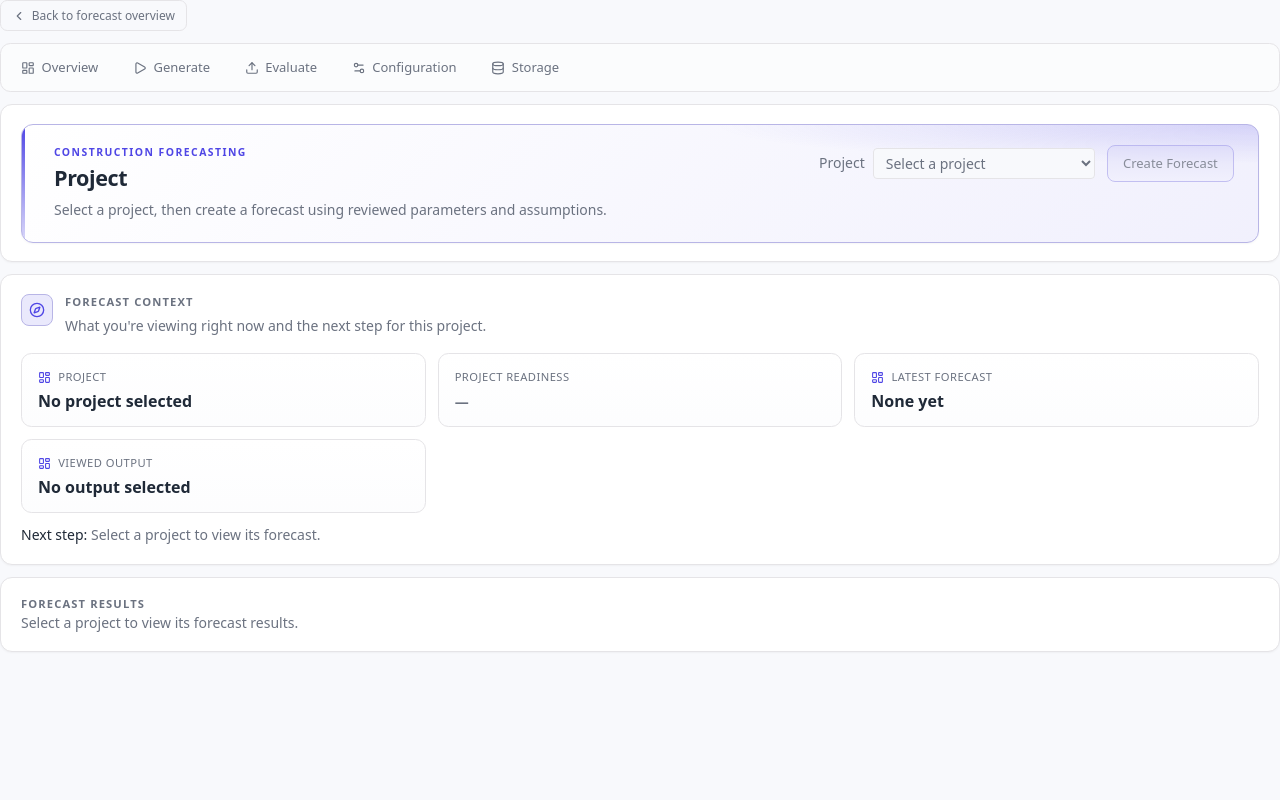
Scenario: ForecastRunCenterPage layout + Create Forecast modal › keeps date/month fields out of the page until the modal is opened, and opening runs no forecast
Step 1. Select "Tropical Resort" in the dropdown named "Forecast project" → (984, 163), box [873,148,1095,179]
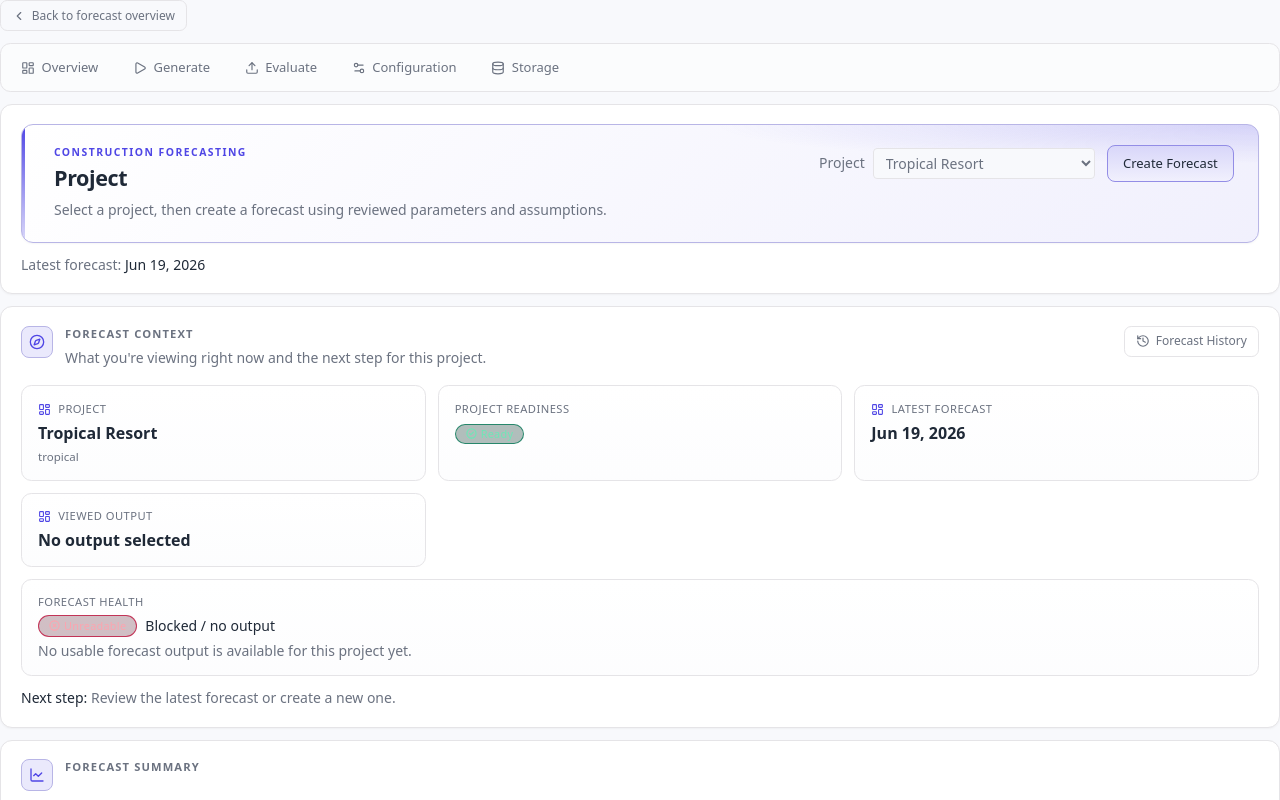
Expected: the field labelled "Forecast start date" is not shown
Expected: the field labelled "Actuals start month" is not shown
Step 2. Click the button "Create Forecast" → (1170, 163), box [1107,145,1234,182]
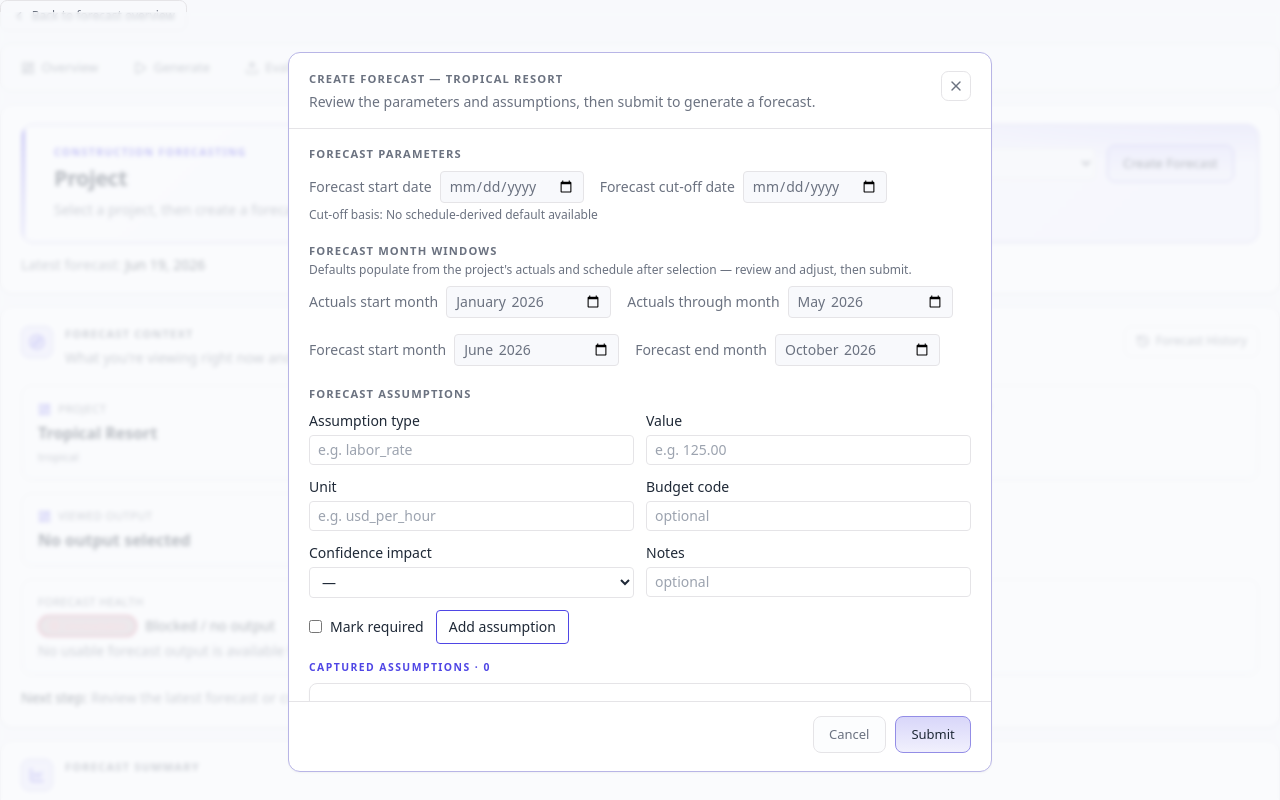
Now the dialog is shown, box [288,52,992,772]
Now the date field labelled "Forecast start date" is shown, box [440,171,584,203]
Now the date field labelled "Forecast cut-off date" is shown, box [743,171,887,203]
